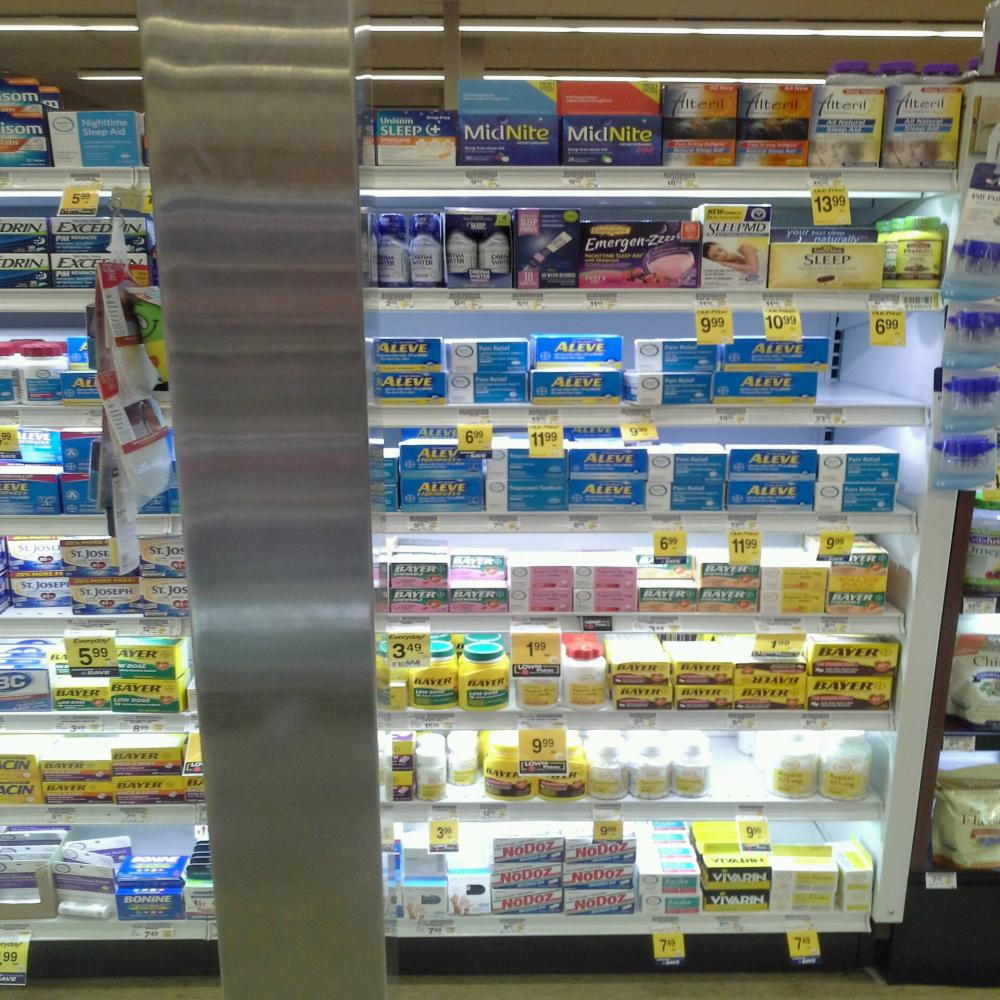shelf: (0, 910, 870, 943), (0, 165, 960, 194), (0, 802, 882, 827), (0, 614, 906, 638), (0, 513, 914, 536), (0, 287, 948, 309), (0, 405, 933, 425), (920, 868, 1000, 890), (939, 732, 1000, 749), (956, 594, 1000, 614)
